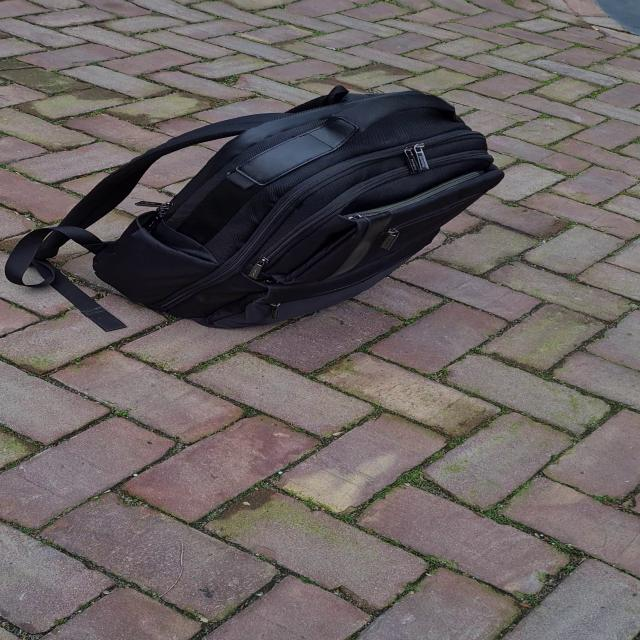backpack: (78, 83, 506, 340)
